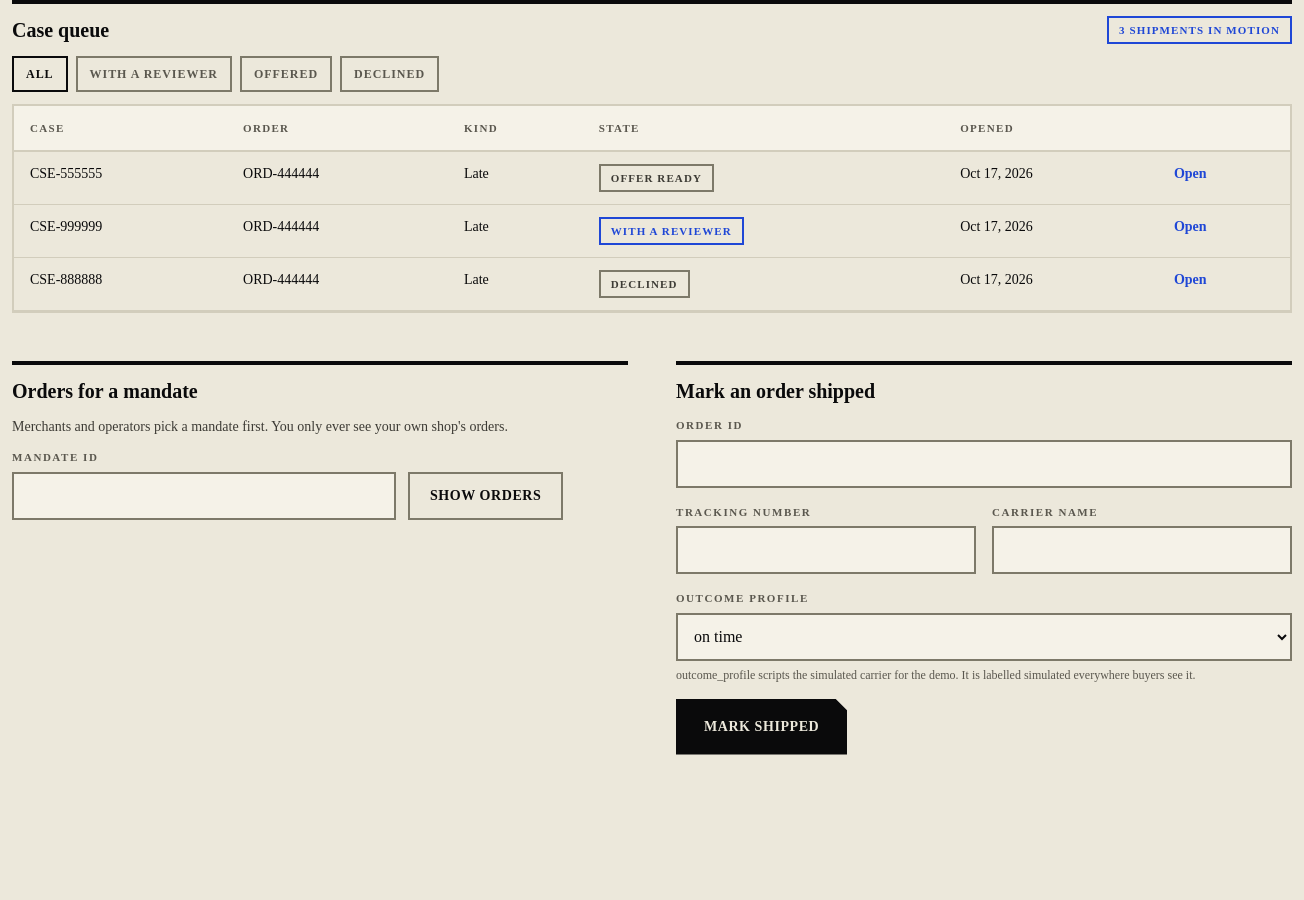
it: MerchantDesk › lists the queue and narrows it on the client
The image size is (1304, 900).
Expected: the text "3 shipments in motion" is shown, top-left (1107, 16), bottom-right (1292, 44)
Expected: the number of links "Open" is 3, top-left (1174, 166), bottom-right (1207, 181); top-left (1174, 219), bottom-right (1207, 234); top-left (1174, 272), bottom-right (1207, 287)
What coordinates should you click on to do the following:
click the button "With a reviewer"
I would click on:
 (154, 74)
Its box is top-left (76, 56), bottom-right (232, 92).
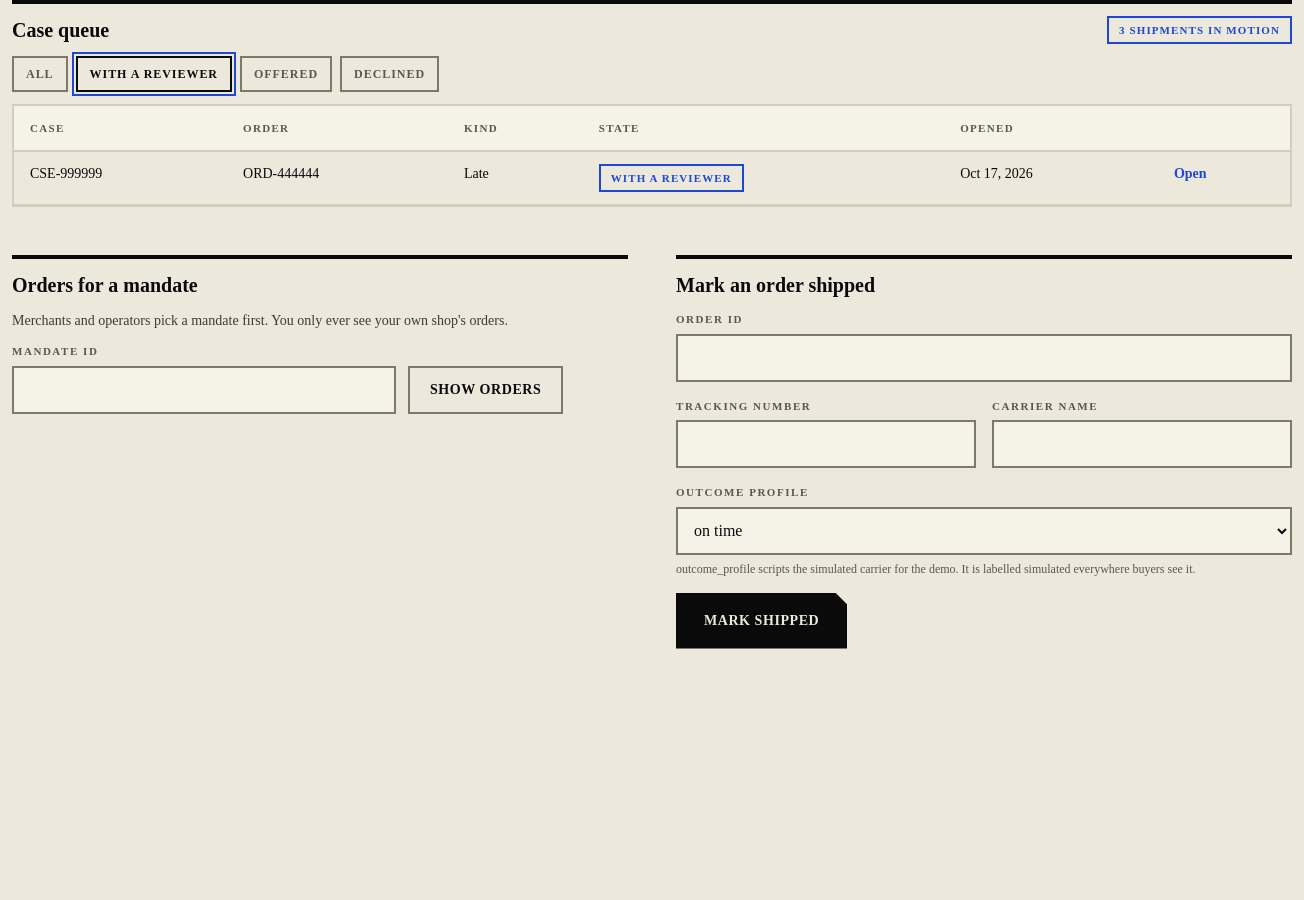
Result: the number of links "Open" is 1 at top-left (1174, 166), bottom-right (1207, 181)
